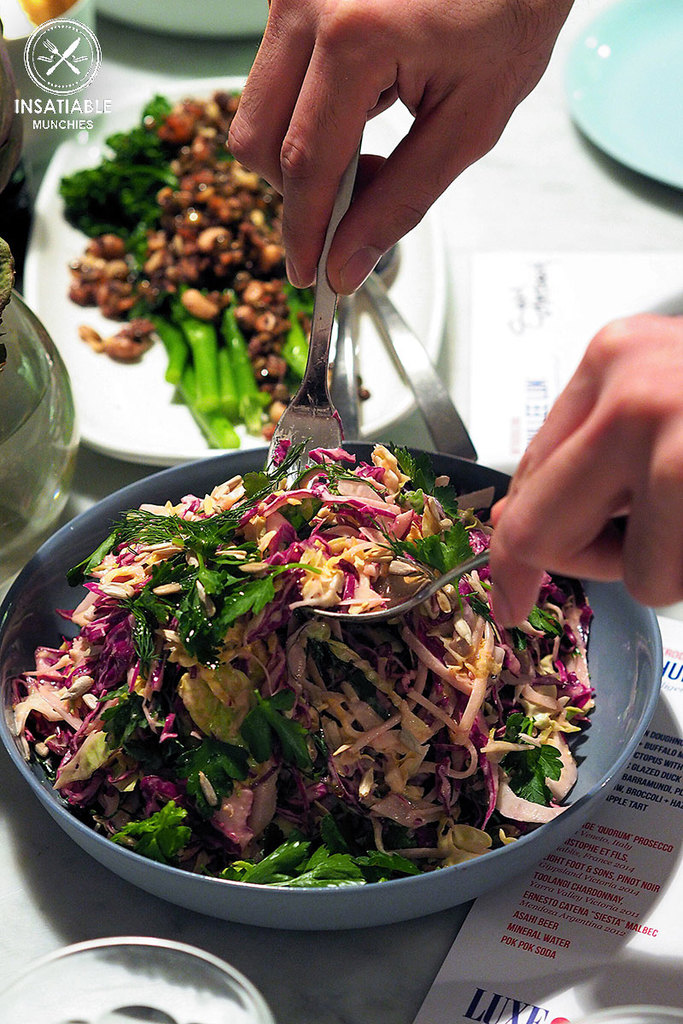salad: (0, 441, 632, 908), (36, 81, 400, 469)
